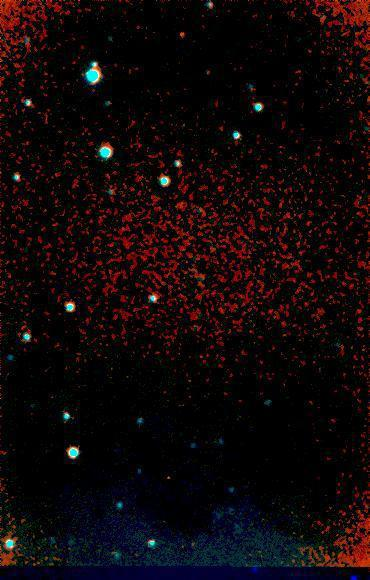star: (167, 19, 197, 49)
